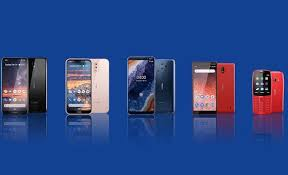nokia: (190, 57, 219, 118), (64, 57, 93, 117), (126, 56, 155, 116), (1, 56, 29, 116), (154, 57, 178, 115), (215, 61, 239, 114), (251, 67, 274, 116), (29, 56, 48, 114), (92, 58, 111, 116)
